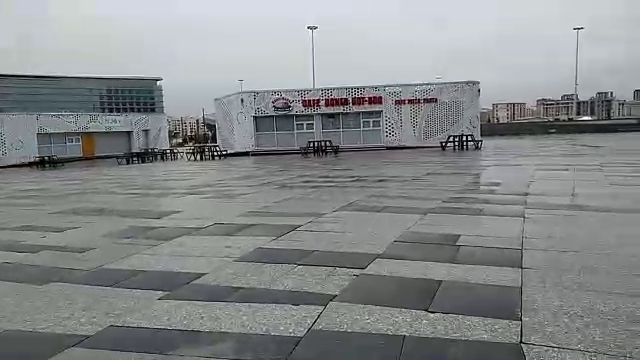kebab: (250, 89, 473, 153)
